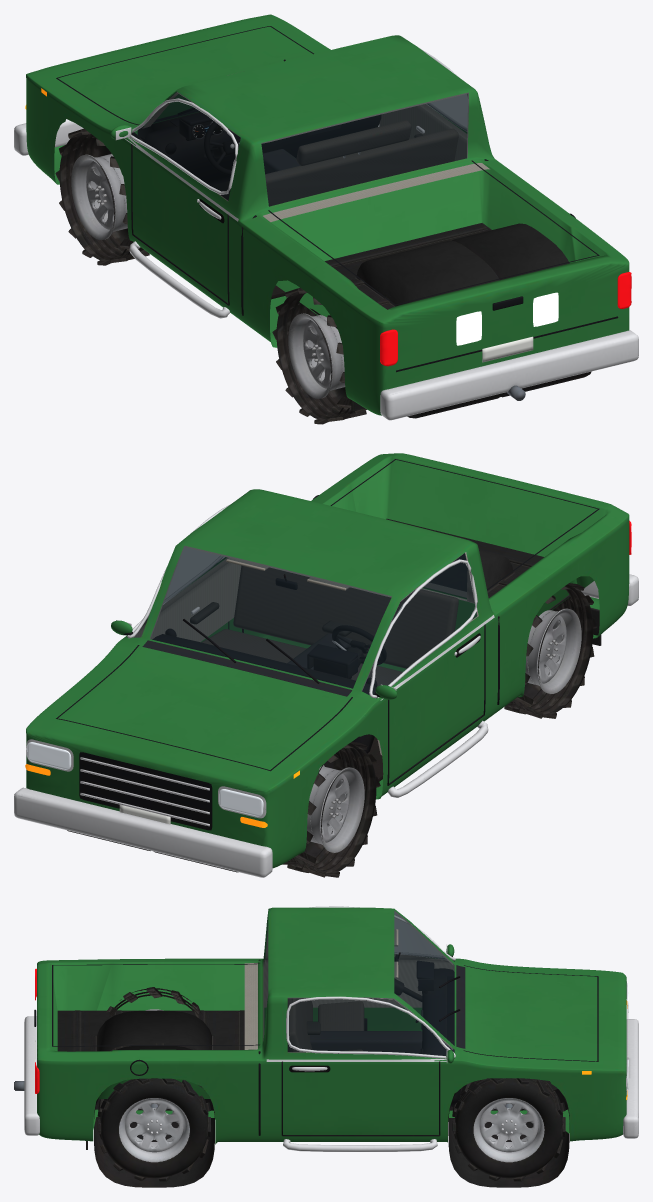
The model's file is PickupTruck.glb.
3 views of the same model, one above another, from view 1: azimuth 30°, elevation 25°; view 2: azimuth 150°, elevation 25°; view 3: azimuth 270°, elevation 25° (orthographic). The views are drawn at different scales.
Parts seen in each view (by area): view 1: PickupTruck_Body, PickupTruck_Trim, PickupTruck_Glass, PickupTruck_Interior, PickupTruck_Wheel1, PickupTruck_Wheel3, PickupTruck_Lights, PickupTruck_Steer; view 2: PickupTruck_Body, PickupTruck_Trim, PickupTruck_Glass, PickupTruck_Interior, PickupTruck_Wheel1, PickupTruck_Wheel3, PickupTruck_Lights, PickupTruck_Steer; view 3: PickupTruck_Body, PickupTruck_Trim, PickupTruck_Glass, PickupTruck_Interior, PickupTruck_Wheel2, PickupTruck_Wheel4, PickupTruck_Wheel3.
Boxes of the visible parts, x1,y1,x2,y2 form: PickupTruck_Body: (26,14,629,415); PickupTruck_Trim: (14,26,638,420); PickupTruck_Glass: (132,91,468,206); PickupTruck_Interior: (142,59,489,299); PickupTruck_Wheel1: (55,128,149,265); PickupTruck_Wheel3: (272,288,366,424); PickupTruck_Lights: (25,88,631,366); PickupTruck_Steer: (204,121,240,175); PickupTruck_Body: (26,453,629,868); PickupTruck_Trim: (14,459,638,877); PickupTruck_Glass: (134,546,477,698); PickupTruck_Interior: (134,546,478,781); PickupTruck_Wheel1: (282,742,380,877); PickupTruck_Wheel3: (504,583,597,718); PickupTruck_Lights: (25,520,631,827); PickupTruck_Steer: (332,625,386,665); PickupTruck_Body: (37,907,626,1144); PickupTruck_Trim: (14,906,638,1187); PickupTruck_Glass: (263,910,454,1055); PickupTruck_Interior: (244,911,460,1106); PickupTruck_Wheel2: (452,1078,565,1181); PickupTruck_Wheel4: (97,1078,211,1181); PickupTruck_Wheel3: (106,987,201,1017).
Size of the model in its own units: 8.5 by 6.52 by 19.67.
Materials: 13 (8 with a texture image).
